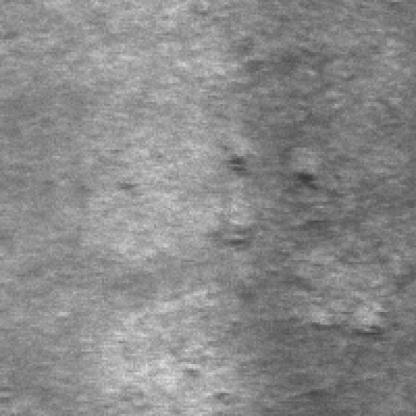rolled-in_scale: (218, 145, 408, 348)
